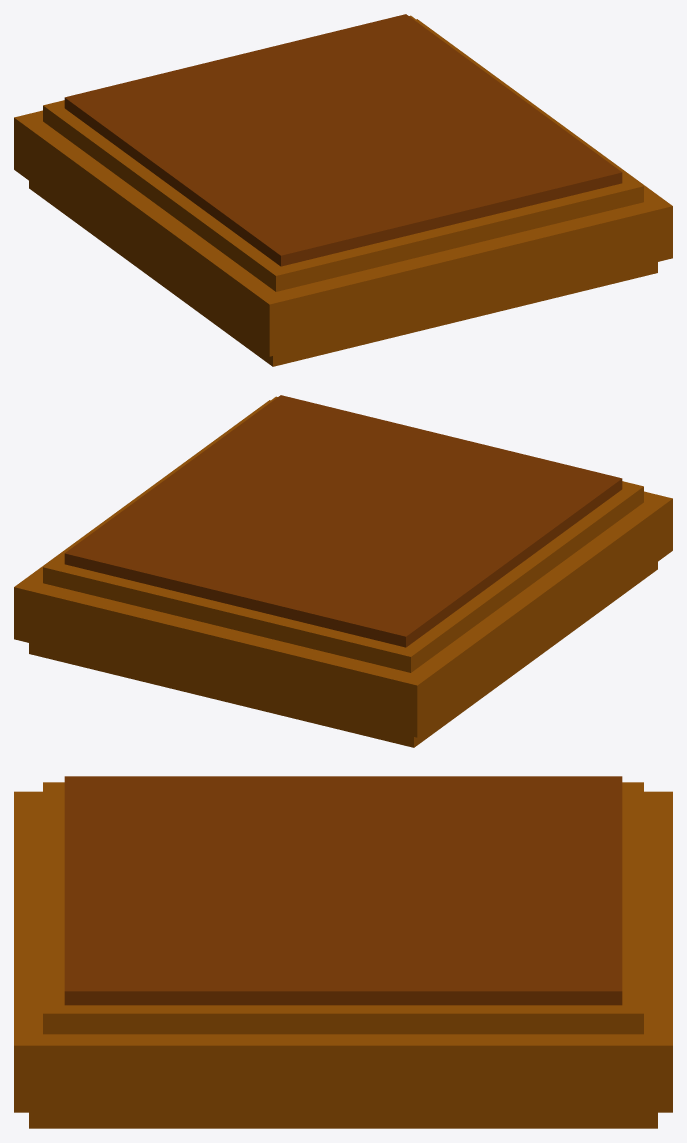
Rendered from gavel_block.fbx.
The picture shows the model from 3 angles, top to bottom: view 1: azimuth 30°, elevation 25°; view 2: azimuth 150°, elevation 25°; view 3: azimuth 270°, elevation 25°; orthographic projection. The views are drawn at different scales.
Visible parts, largest first — view 1: Block; view 2: Block; view 3: Block.
Part boxes in pixels (x1=…): Block: x1=14, y1=14, x2=672, y2=366; Block: x1=14, y1=395, x2=672, y2=747; Block: x1=14, y1=776, x2=672, y2=1128.
Bounding box in the file's own units: 1619 × 367 × 1776.
